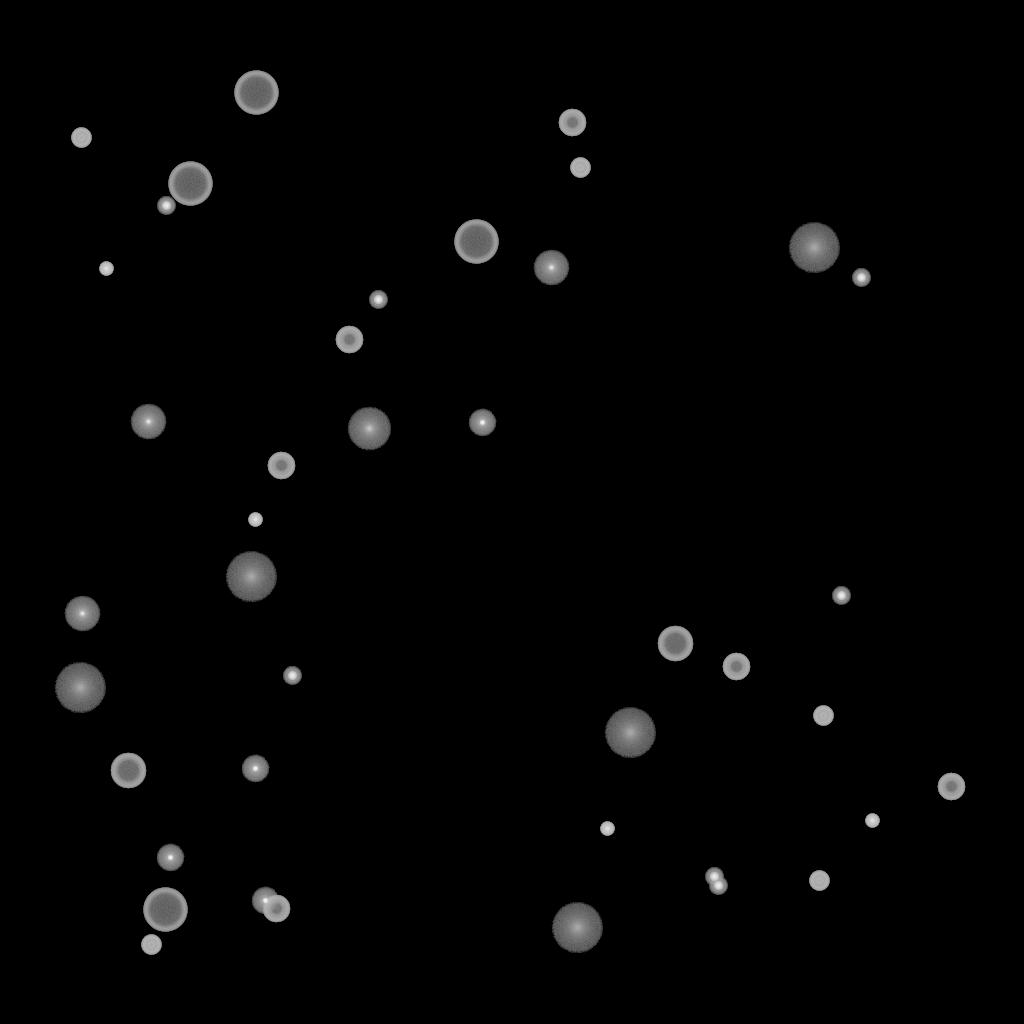depth:-10: (251, 887, 279, 915), (156, 844, 184, 872), (468, 409, 496, 437), (241, 755, 269, 783)
depth:-20: (705, 868, 723, 886), (832, 587, 850, 605), (283, 667, 301, 685), (709, 877, 727, 895), (369, 291, 387, 309), (852, 269, 870, 287), (157, 197, 175, 215)
depth:-30: (99, 262, 113, 276), (248, 513, 262, 527), (865, 814, 879, 828), (600, 822, 614, 836)
depth:-40: (809, 871, 829, 891), (141, 935, 161, 955), (71, 128, 91, 148), (570, 158, 590, 178), (813, 706, 833, 726)
depth:-50: (262, 895, 290, 923), (267, 452, 295, 480), (335, 326, 363, 354), (722, 653, 750, 681), (937, 773, 965, 801), (558, 109, 586, 137)
depth:-60: (657, 626, 693, 662), (110, 753, 146, 789)
depth:-70: (168, 162, 212, 206), (234, 71, 278, 115), (454, 220, 498, 264), (143, 888, 187, 932)
depth:0: (533, 250, 569, 286), (64, 596, 100, 632), (130, 404, 166, 440)
depth:10: (347, 407, 391, 451)
depth:20: (788, 223, 840, 273), (551, 903, 603, 953), (225, 552, 277, 602), (604, 708, 656, 758), (54, 663, 106, 713)
